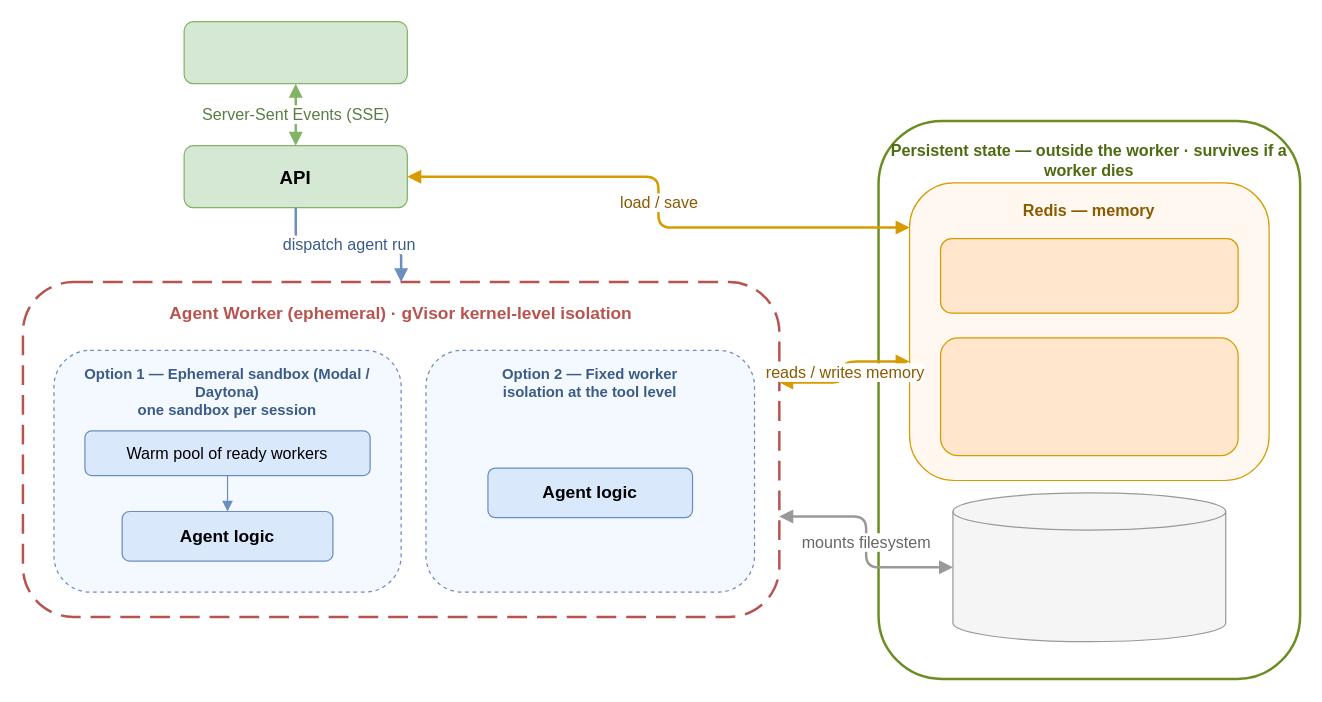
The diagram is 1322 pixels wide and 702 high, and some of its shapes have lost their labels. Each missing label, with the centre of its shape:
"Chat UI" belongs at (x=295, y=52).
"Long-term — cross-session preferences · solved problems · artifacts" belongs at (x=1088, y=396).
"NFS file system (workspace)" belongs at (x=1089, y=567).
"Short-term chat history (this conversation)" belongs at (x=1088, y=275).
